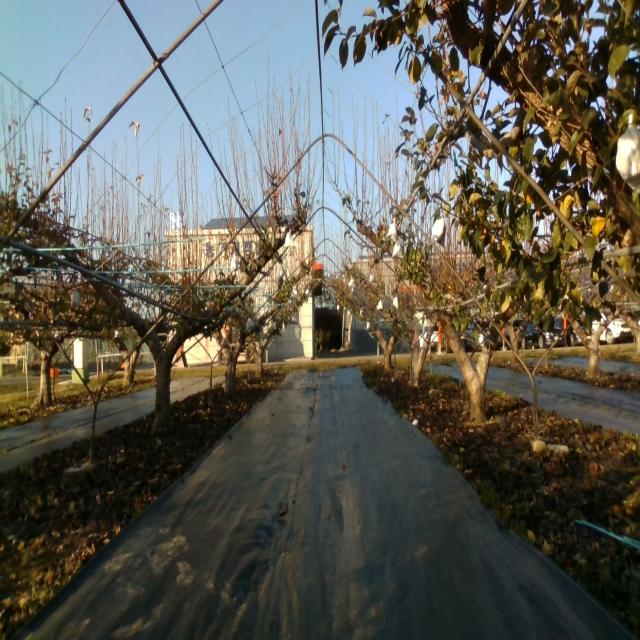pearbags: (613, 120, 640, 182), (432, 213, 445, 246)
